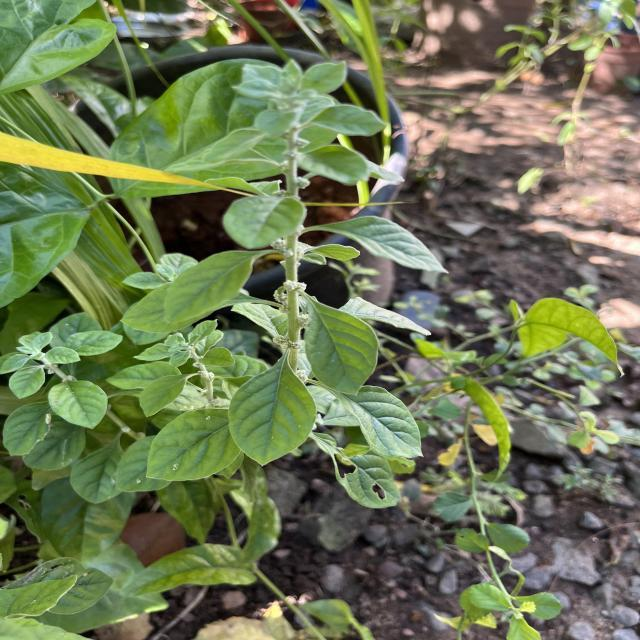Aerva lanata: (226, 361, 320, 469), (321, 382, 427, 460), (142, 406, 242, 483), (48, 379, 110, 431)
